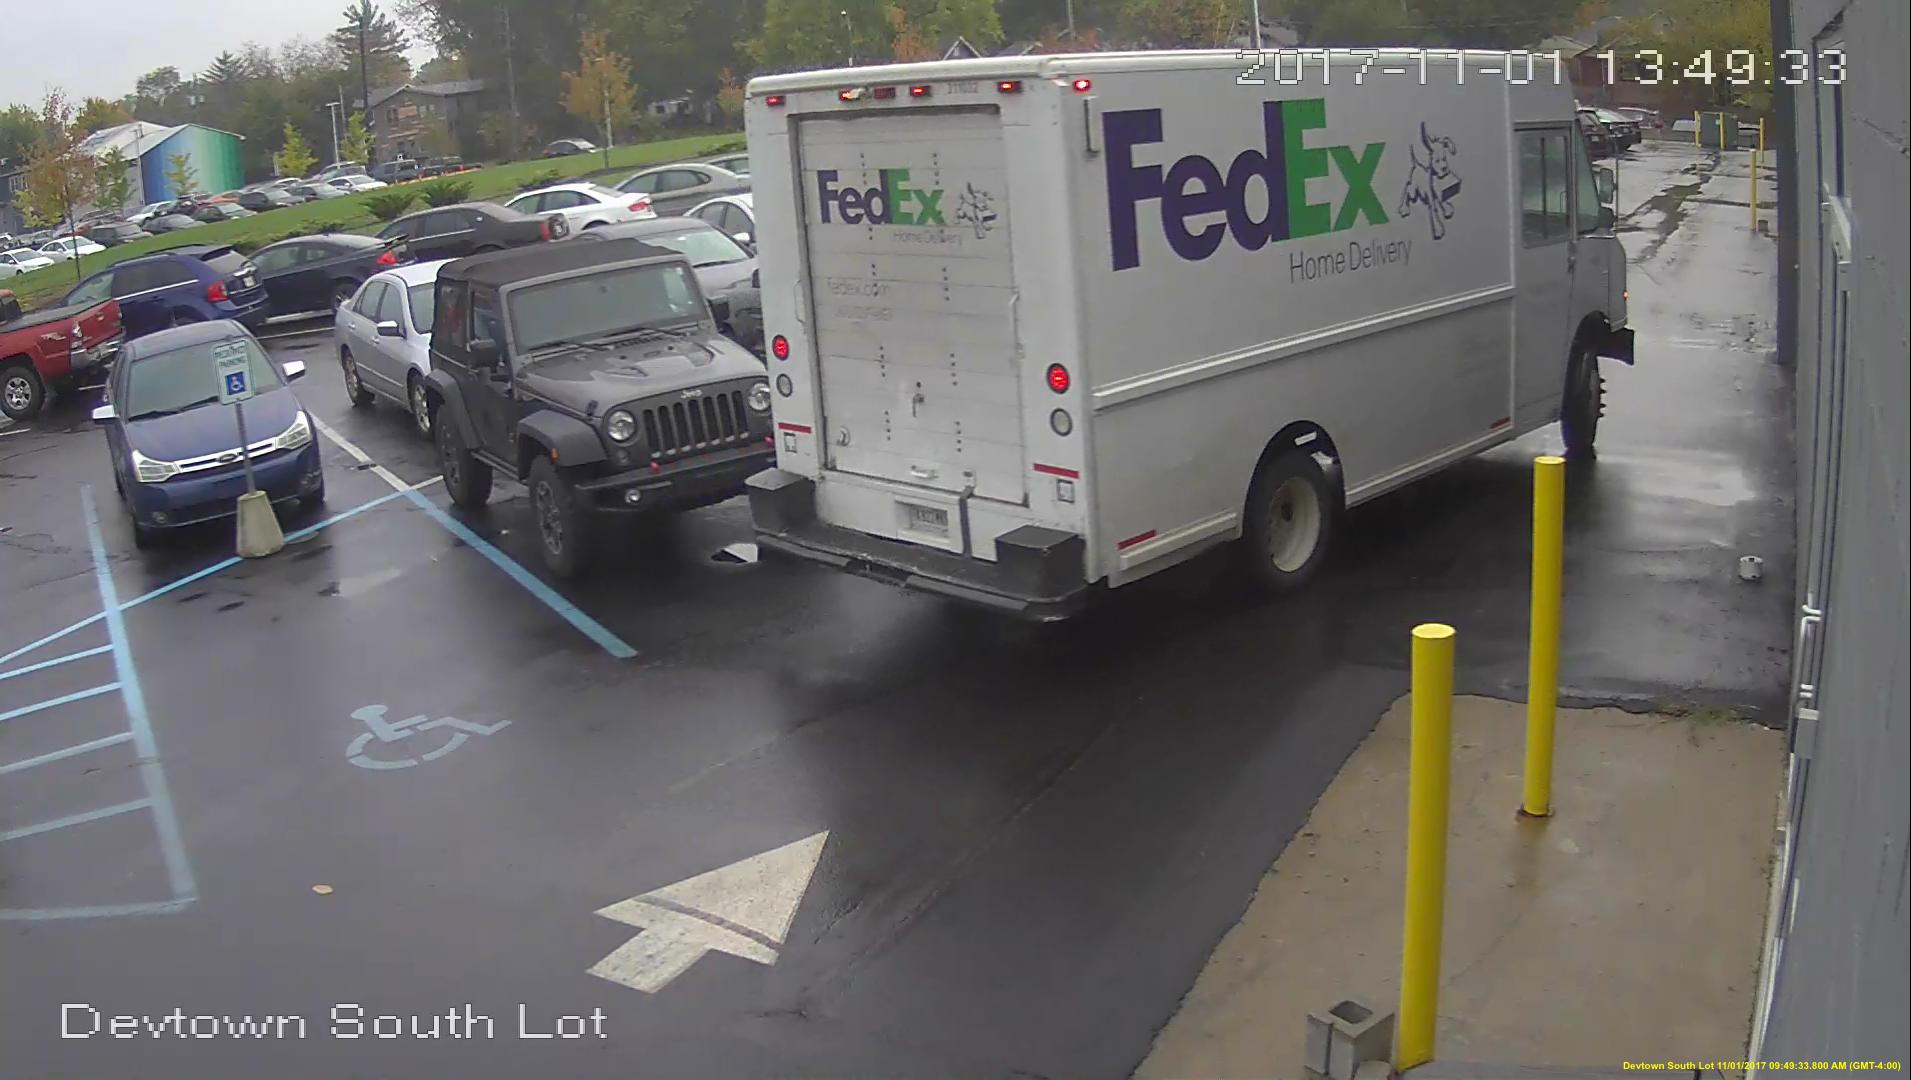fedex_truck: (751, 56, 1614, 612)
